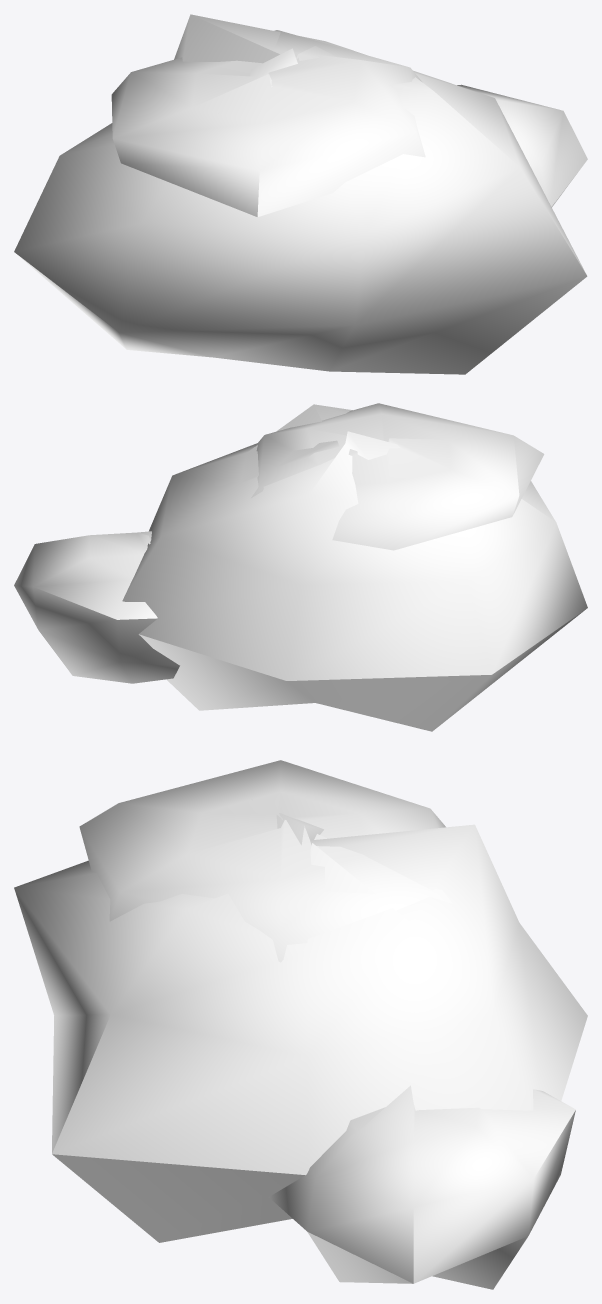
File: boulder.glb
The picture shows the model from 3 angles, top to bottom: view 1: azimuth 30°, elevation 25°; view 2: azimuth 150°, elevation 25°; view 3: azimuth 270°, elevation 25°; orthographic projection. The views are drawn at different scales.
Parts seen in each view (by area): view 1: Boulder; view 2: Boulder; view 3: Boulder.
Part boxes in pixels (box(x1,y1,x2,y2)): Boulder: box(14, 14, 587, 374); Boulder: box(14, 403, 587, 731); Boulder: box(14, 760, 587, 1289).
Size of the model in its own units: 2.87 by 1.48 by 2.16.
1 material, 1 textured.
